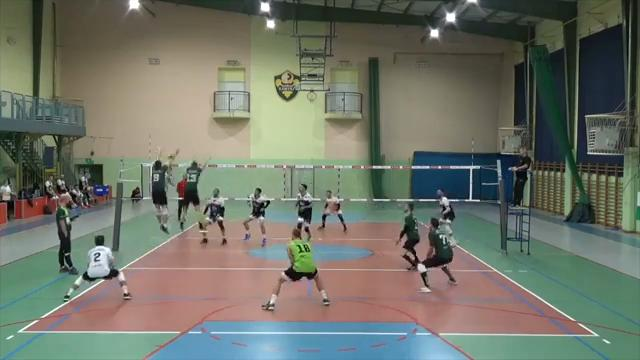attacco: (162, 144, 177, 210)
muro: (142, 143, 175, 238), (179, 157, 210, 226)
